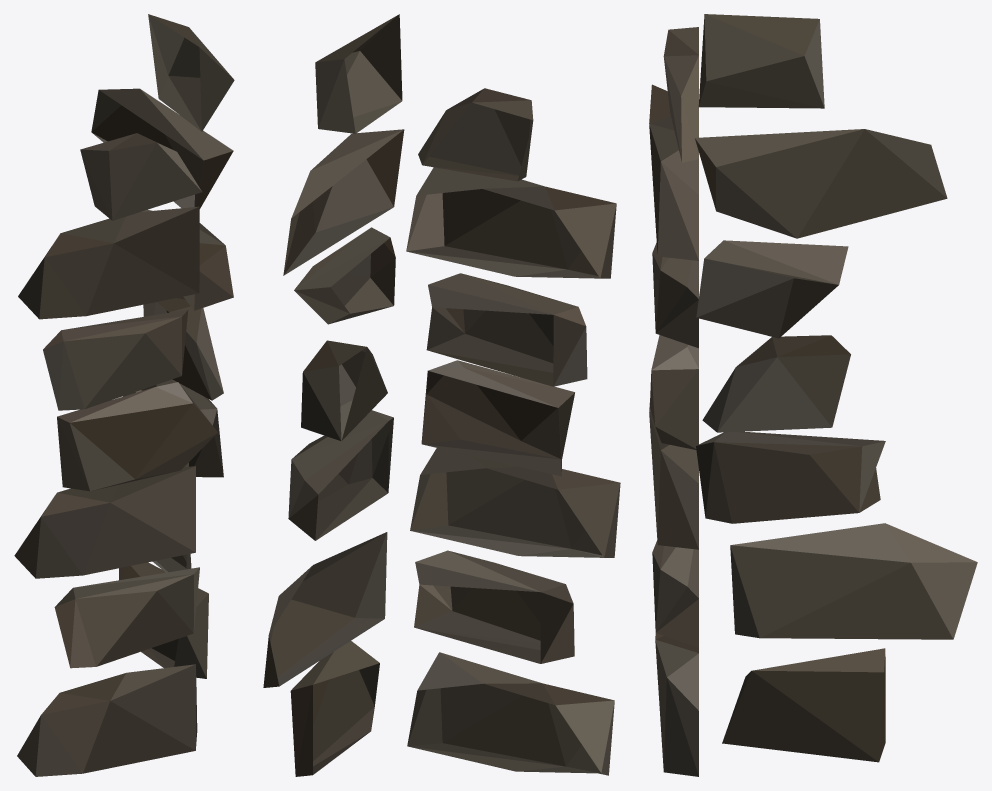
Rendered from Decal-Bricks_D.fbx.
3 renders of one model, left to right at view 1: azimuth 30°, elevation 25°; view 2: azimuth 150°, elevation 25°; view 3: azimuth 270°, elevation 25°, orthographic. The views are drawn at different scales.
Visible parts, largest first — view 1: Decal-Bricks_D; view 2: Decal-Bricks_D; view 3: Decal-Bricks_D.
Boxes of the visible parts, box(x1,y1,x2,y2) form: Decal-Bricks_D: box(14, 14, 234, 776); Decal-Bricks_D: box(263, 14, 620, 776); Decal-Bricks_D: box(649, 14, 977, 776).
Size of the model in its own units: 103 by 296 by 115.
